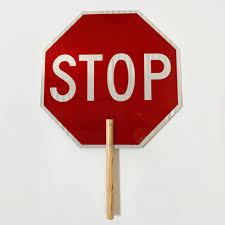stop sign: (40, 7, 182, 148)
